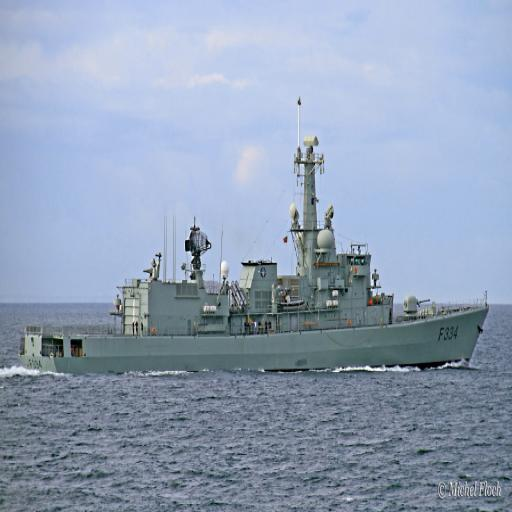Fragata: (21, 95, 494, 373)
